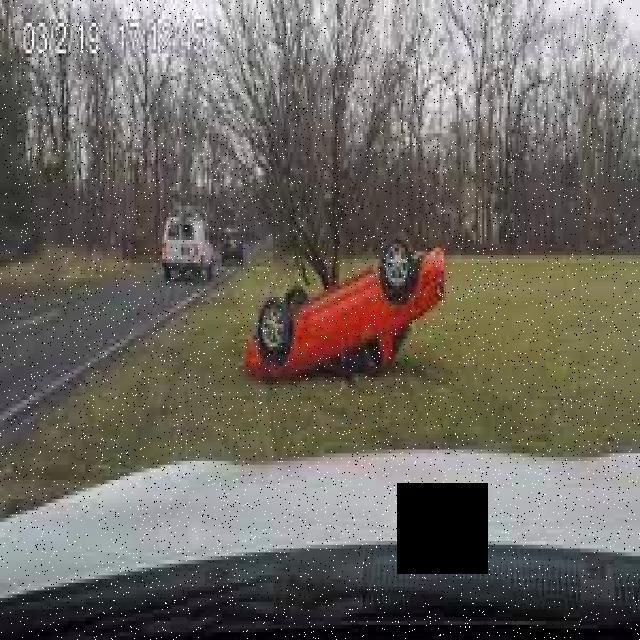single accident: (223, 233, 448, 400)
